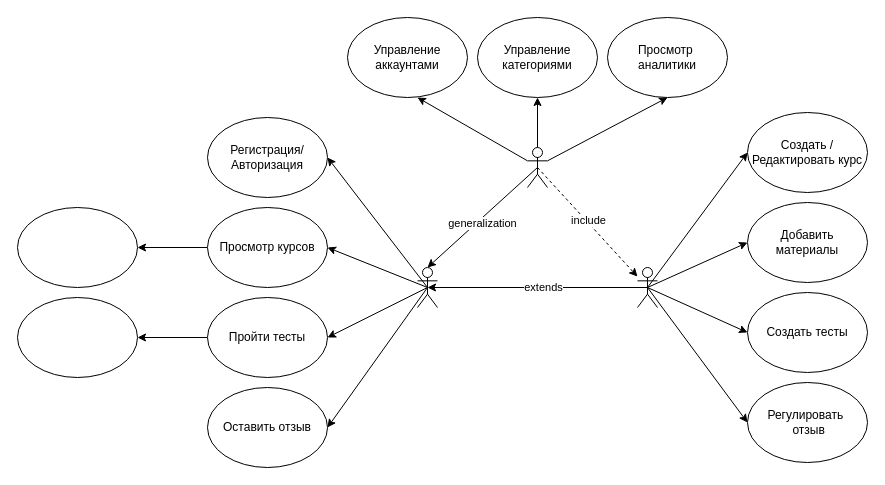
This 885x485 diagram has some shape labels left out. The centre of each missing label's shape, as x and y in pixels:
Admin: (537,167)
Student: (427,287)
Teacher: (647,287)
Проверить результаты: (77,337)
Регистрация на курс: (77,247)
